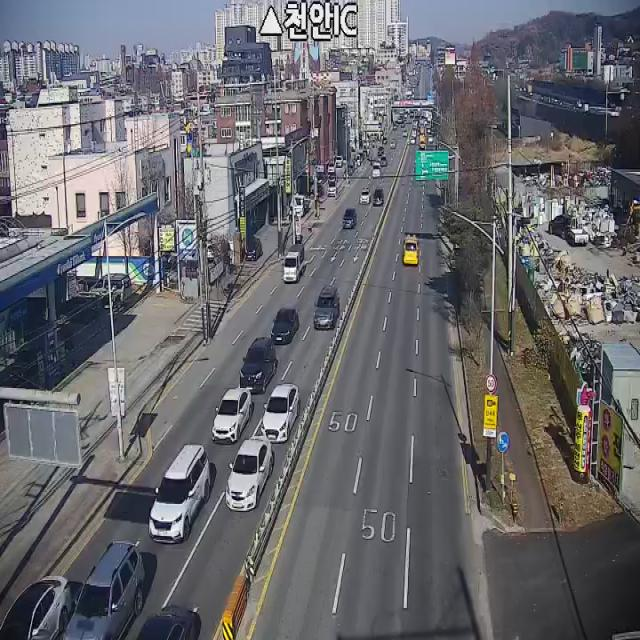Car: (62, 541, 145, 640), (149, 444, 210, 542), (0, 576, 72, 640), (225, 436, 273, 511), (135, 604, 201, 640), (261, 383, 300, 443), (211, 388, 252, 443), (240, 336, 277, 394), (89, 271, 133, 305), (313, 287, 340, 331), (270, 308, 300, 346), (546, 205, 567, 242), (403, 235, 418, 264), (246, 237, 262, 260), (342, 208, 357, 228), (359, 188, 371, 204), (373, 189, 384, 206), (328, 178, 338, 196), (372, 162, 380, 178)
Truck: (564, 210, 587, 246), (283, 244, 304, 282)
